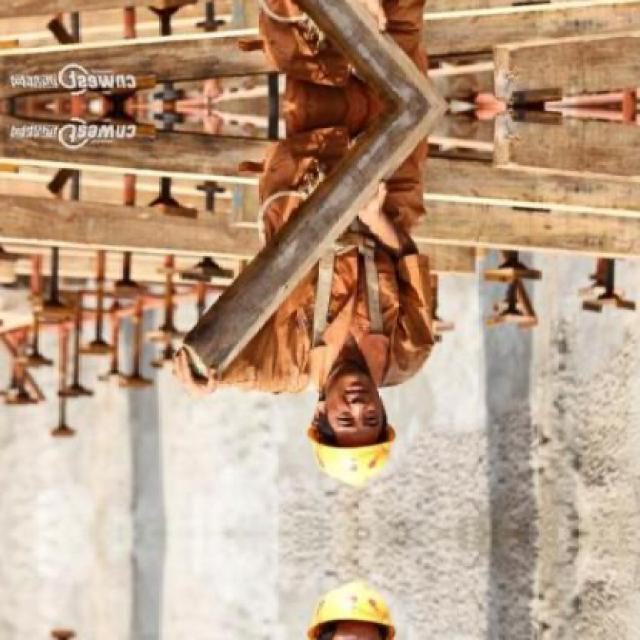con casco: (285, 356, 424, 510)
